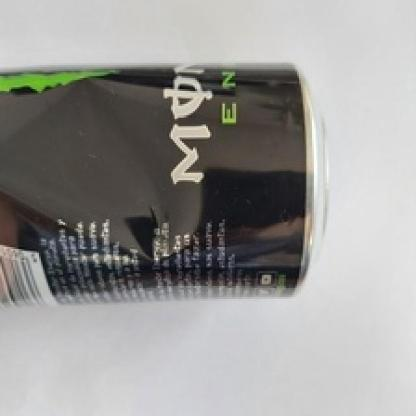Can: (0, 60, 334, 310)
